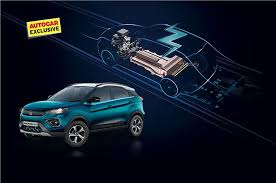Tata Nexon: (14, 80, 147, 150)
